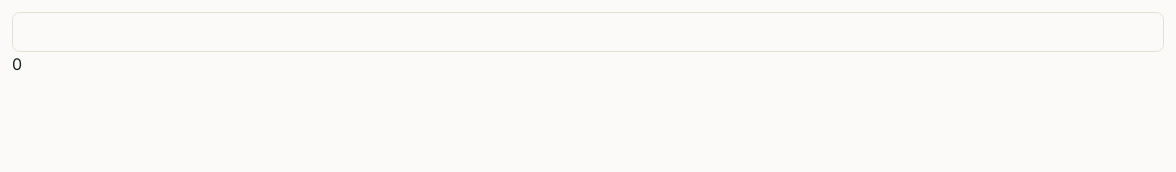
Test: NumberField › does not prefix typed digits with 0
The width and height of the screenshot is (1176, 172).
Type "25" into the field named "field". click: (588, 32)
box: [12,12,1164,52]
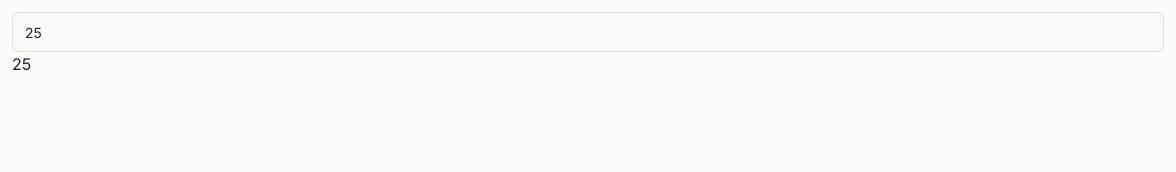
Expected: the text with test id "out" reads "25", [12,54,31,74]
